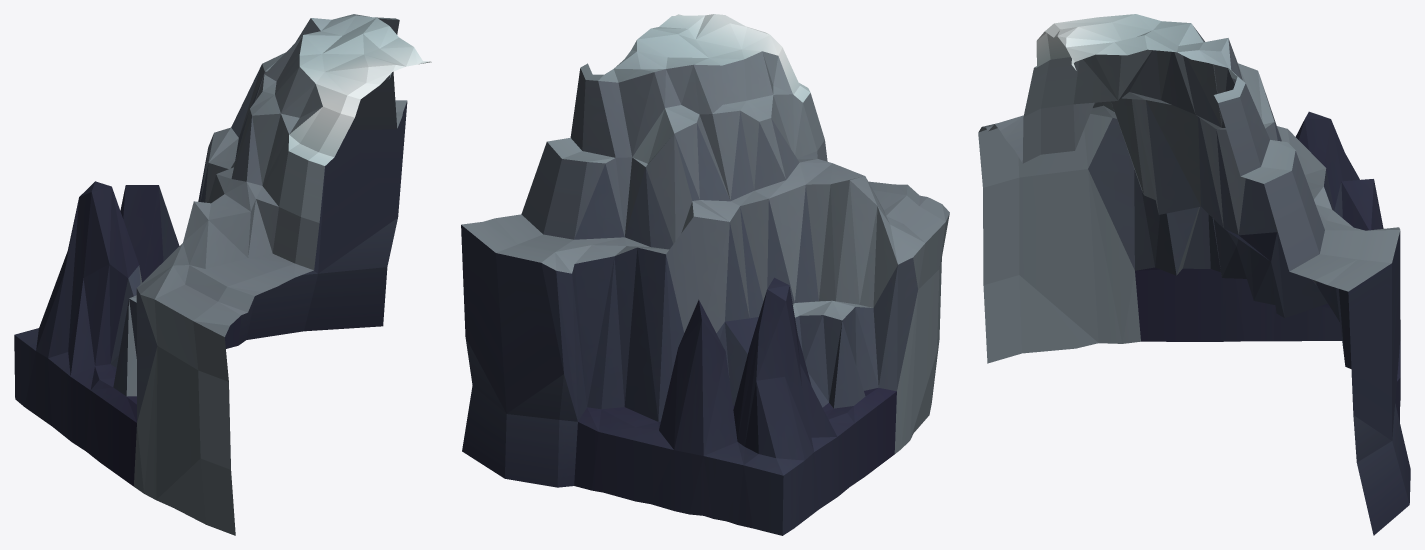
The model's file is Terrain_Cliffs.fbx.
3 renders of one model, left to right at view 1: azimuth 30°, elevation 25°; view 2: azimuth 150°, elevation 25°; view 3: azimuth 270°, elevation 25°, orthographic. The views are drawn at different scales.
Parts seen in each view (by area): view 1: Cliffside; view 2: Cliffside; view 3: Cliffside.
Boxes of the visible parts, x1,y1,x2,y2 form: Cliffside: (14,14,431,535); Cliffside: (461,14,949,535); Cliffside: (978,14,1410,535).
Bounding box in the file's own units: 12665 × 12963 × 11644.
1 material, 1 textured.
